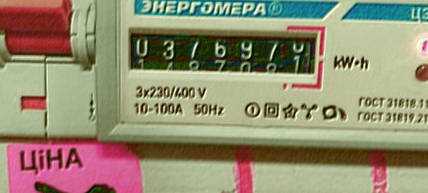0: (132, 33, 147, 55)
1: (289, 52, 300, 72)
3: (160, 38, 175, 59)
6: (211, 34, 227, 57)
7: (185, 35, 201, 59), (263, 37, 279, 60)
9: (237, 36, 252, 58)
screen: (118, 13, 328, 90)
